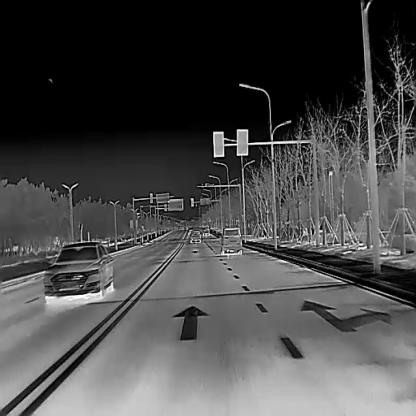car: (42, 238, 113, 301), (220, 225, 242, 254), (189, 228, 202, 243), (201, 227, 210, 235)
